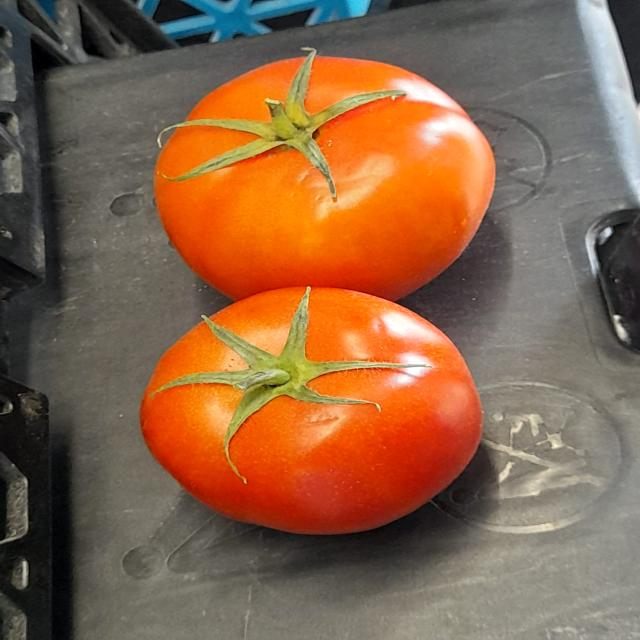tomato: (106, 280, 534, 541), (127, 31, 520, 310)
